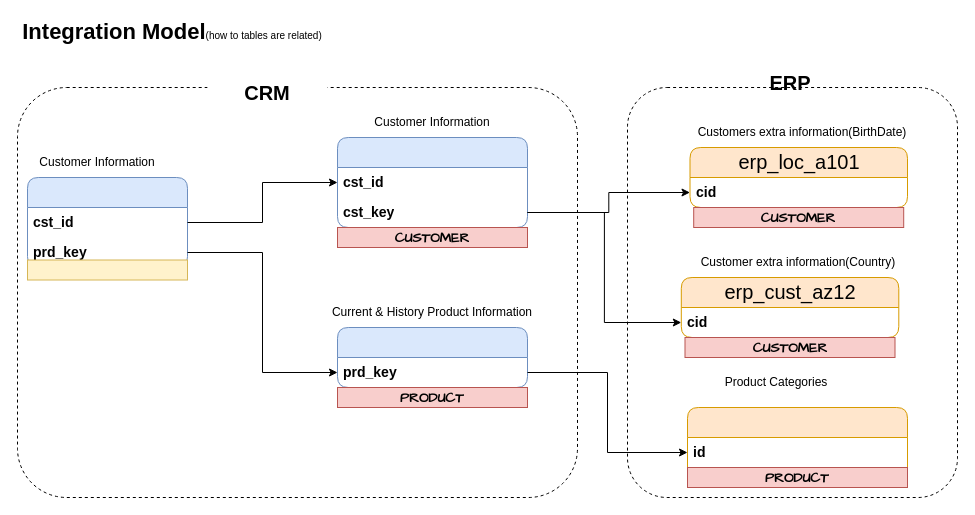
This 975x515 diagram has some shape labels left out. The box of each missing label's shape, as (x1, y1, x2, y2) in pixels:
crm_cust_info: (336, 136, 528, 228)
crm_prd_info: (336, 326, 528, 388)
crm_sales_details: (26, 176, 188, 268)
erp_px_cat_g1v2: (686, 406, 908, 488)
SALES: (26, 259, 188, 280)
